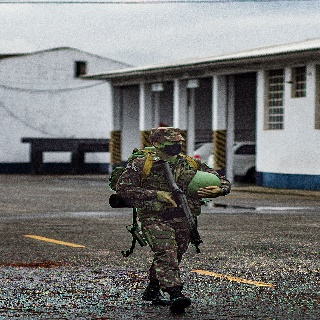rifle: (158, 160, 205, 254)
